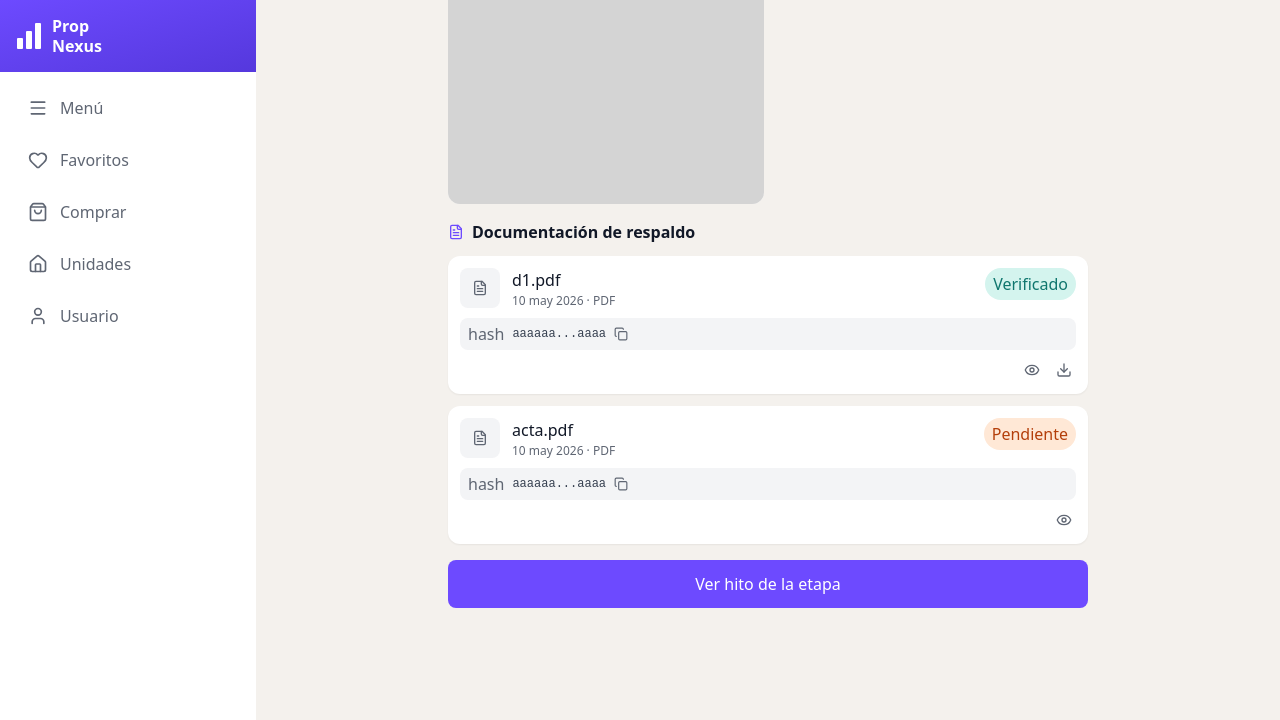
Test: /project/:projectId/stage/:stageId (investor) › el hito de la etapa (bundle y Merkle) › INV-STAGE-MILESTONE-001: con un evento que ancla la raíz, sus archivos salen Verificados y con el TXID del bundle
The width and height of the screenshot is (1280, 720).
(page scrolled)
Step 1. Click the button "Ver hito de la etapa" → (768, 584), box [448,560,1088,608]
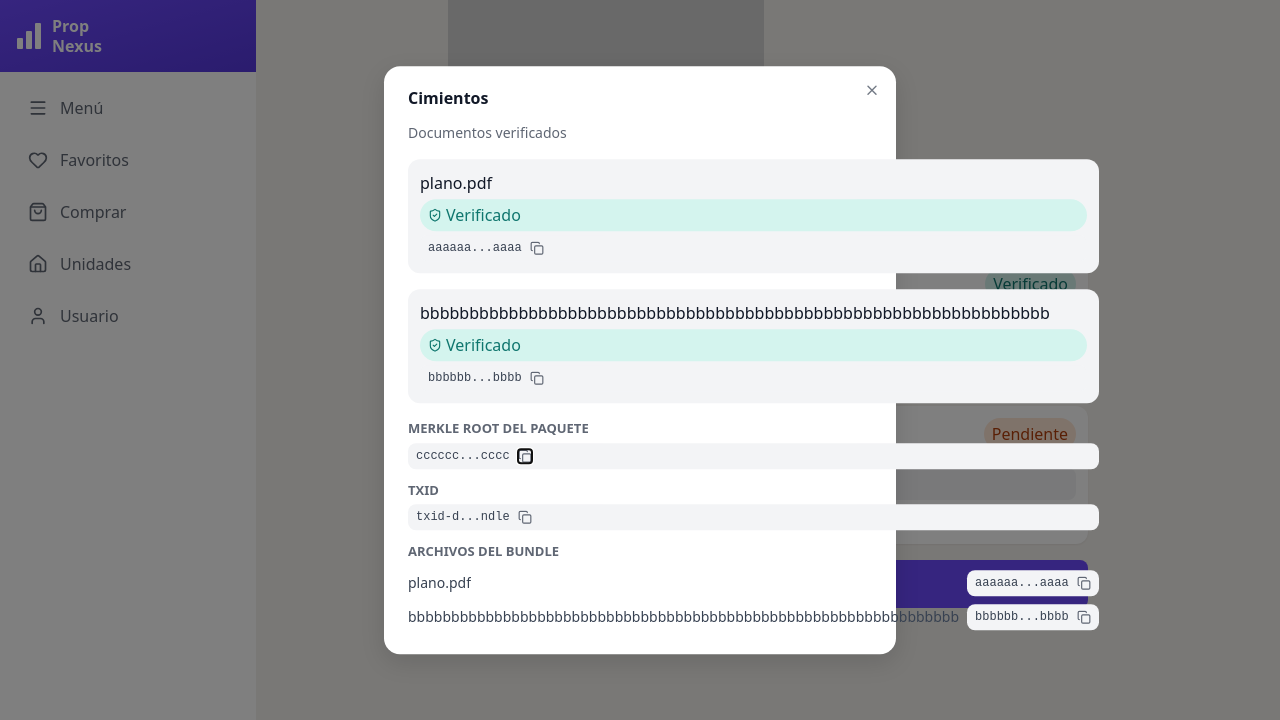
Check: the 1st text "Verificado" is shown, box [420,199,1087,231]
Check: the element with test id "INV-MERKLE-PROOF-002" is shown, box [408,419,1099,630]
